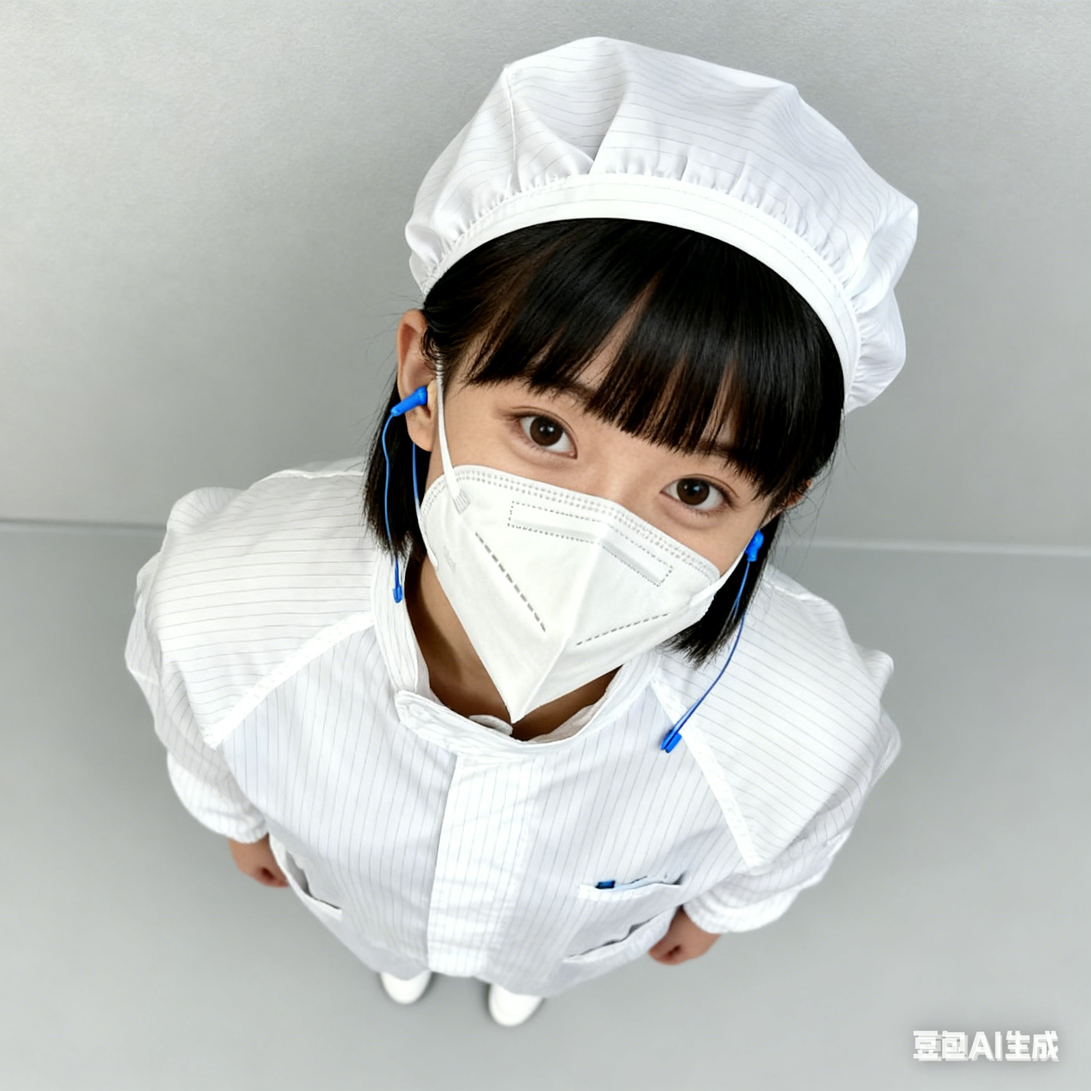MASK: (412, 466, 723, 713)
